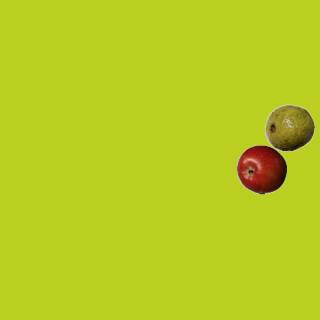Apple Braeburn: (236, 144, 286, 194)
Guava: (264, 102, 314, 152)
